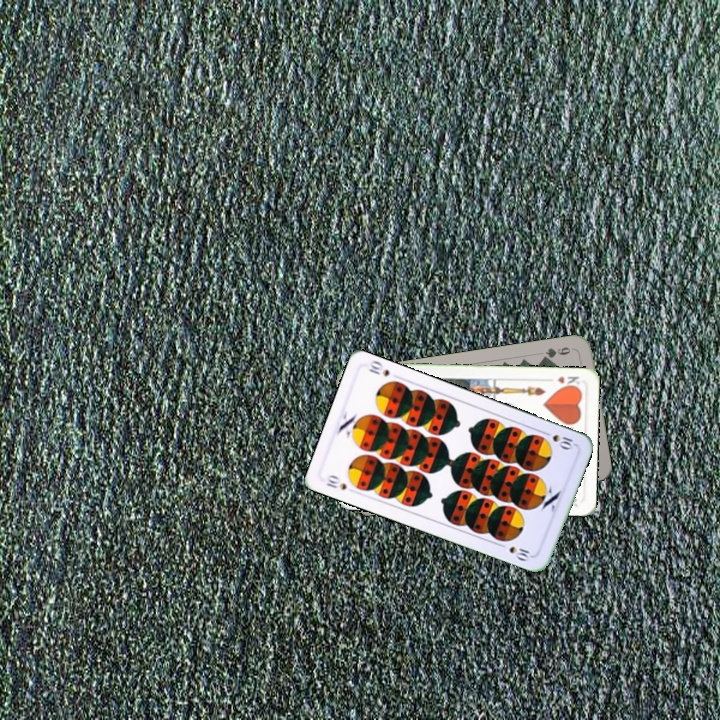G9: (538, 343, 577, 362)
HK: (553, 372, 583, 390)
S10: (539, 427, 578, 452), (322, 471, 349, 493)
